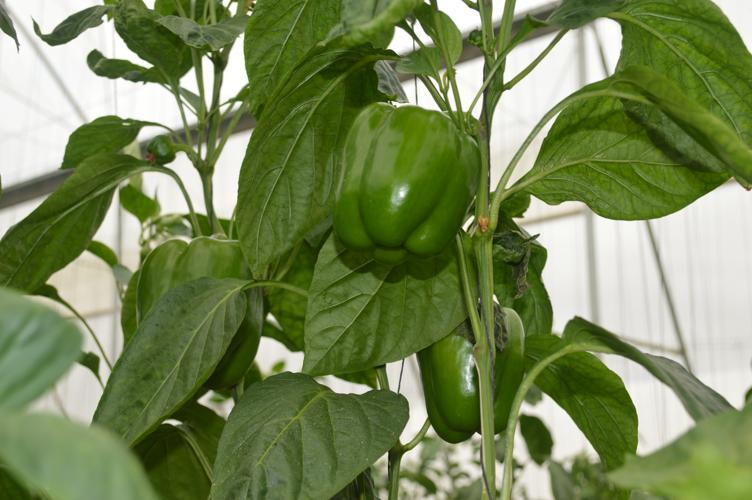BellPepper: (326, 90, 489, 274), (127, 229, 268, 395), (411, 289, 543, 447)
